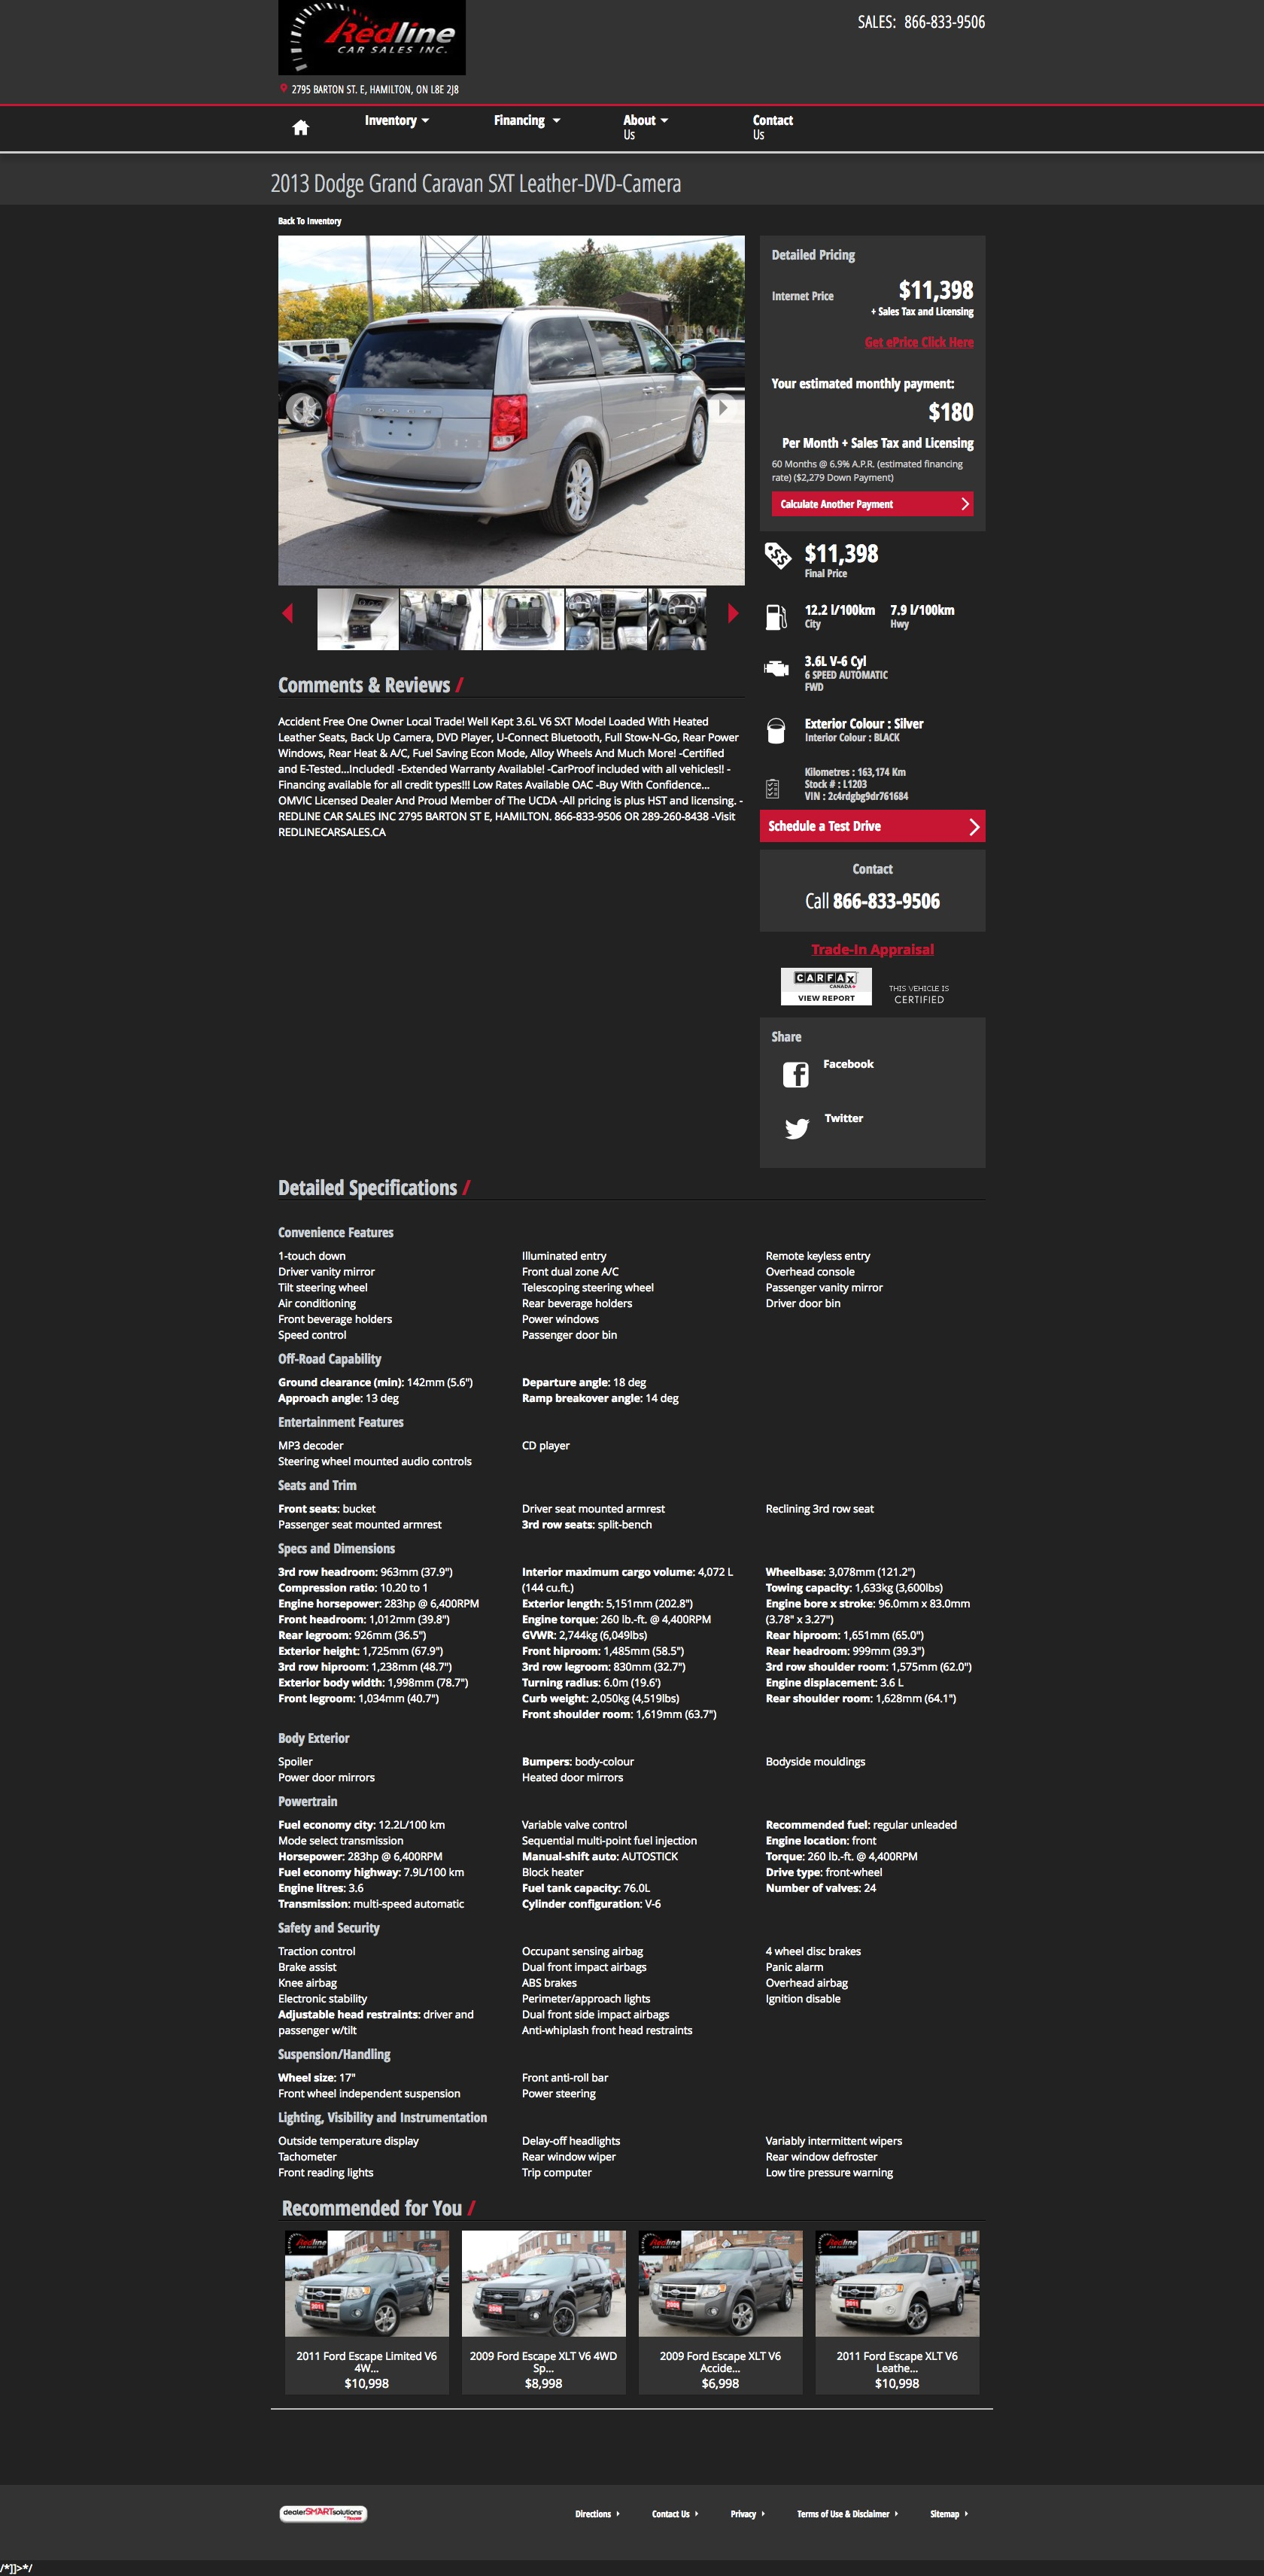car: (729, 603, 740, 624)
